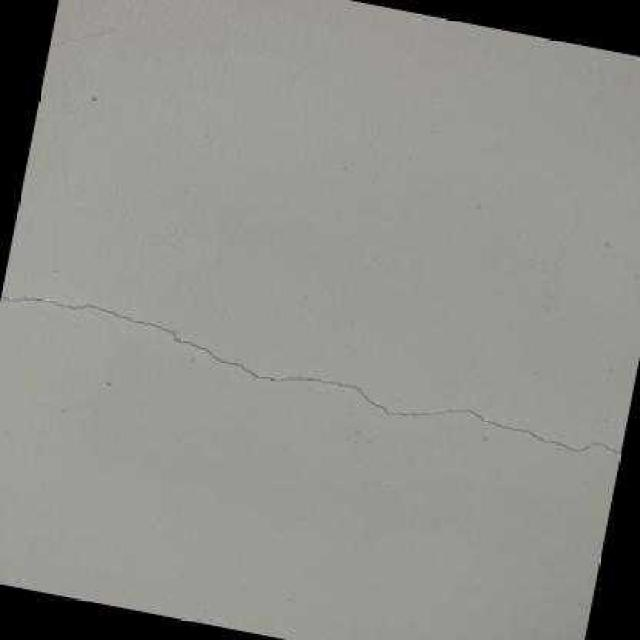D00: (0, 296, 621, 453)
